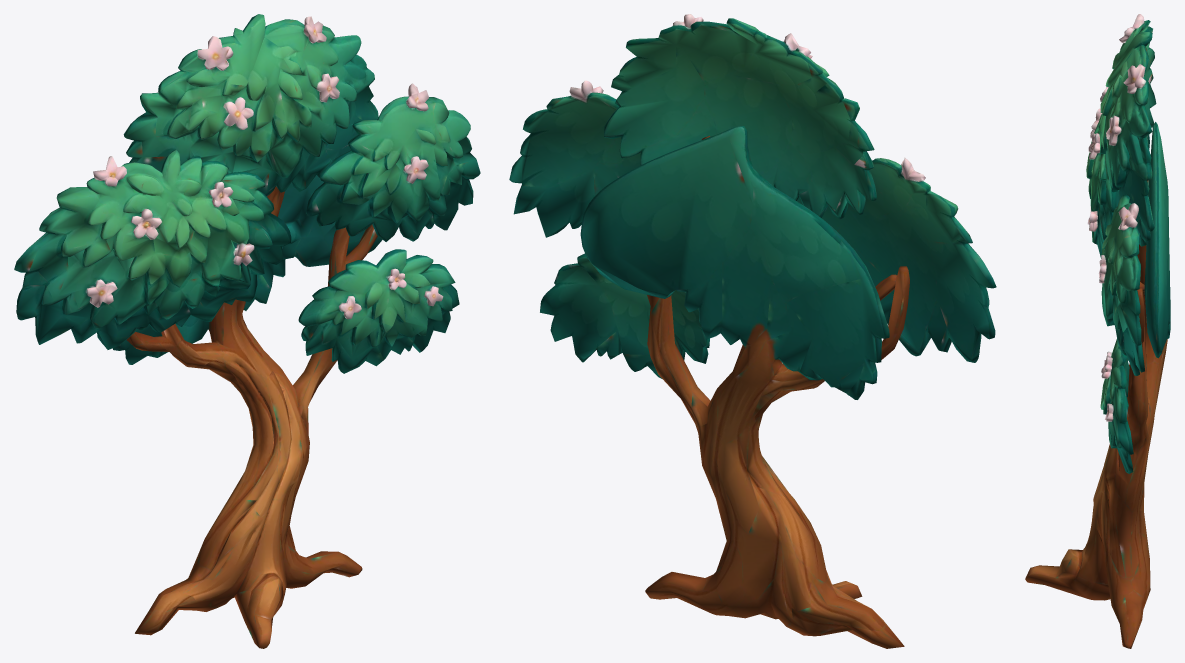
File: tree.glb
3 renders of one model, left to right at view 1: azimuth 30°, elevation 25°; view 2: azimuth 150°, elevation 25°; view 3: azimuth 270°, elevation 25°, orthographic. The views are drawn at different scales.
Size of the model in its own units: 0.9263 by 1.11 by 0.2527.
Materials: 1 (1 with a texture image).
